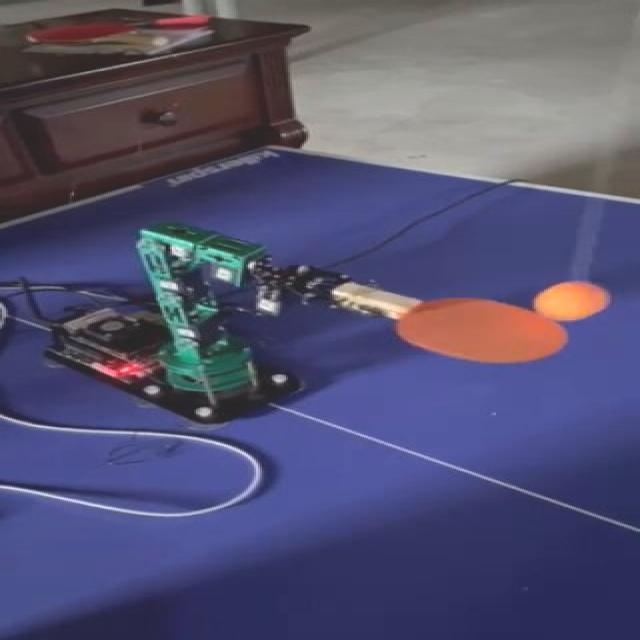ping-pong-ball: (534, 280, 604, 320)
